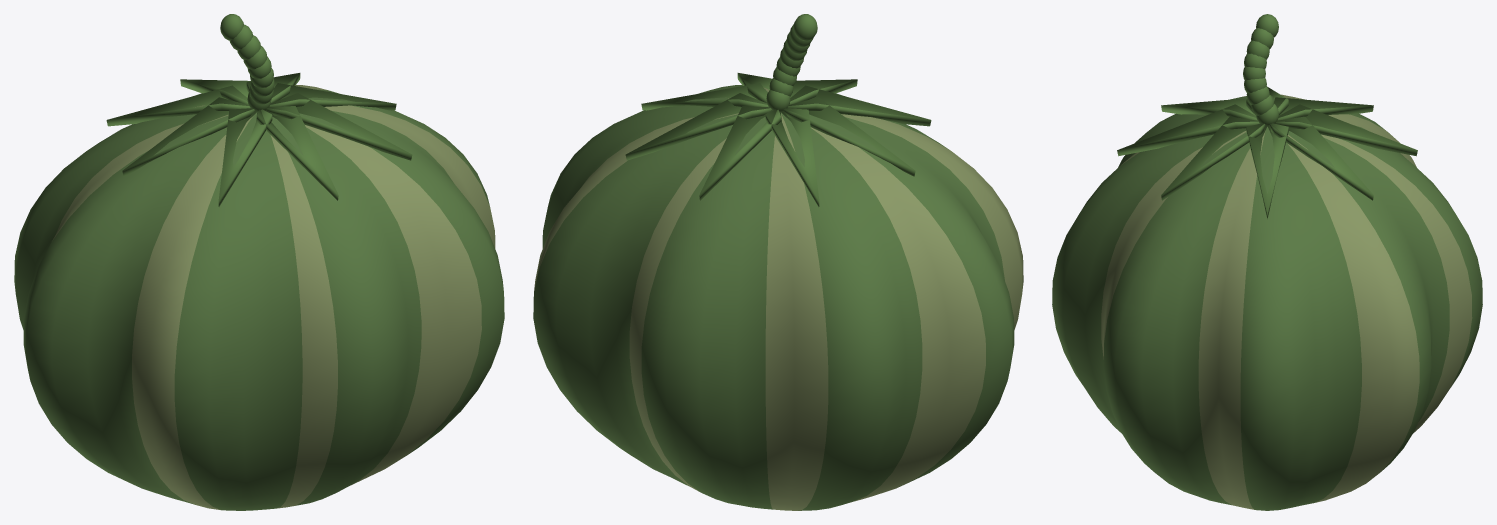
File: rainbow_sage.glb
3 renders of one model, left to right at view 1: azimuth 30°, elevation 25°; view 2: azimuth 150°, elevation 25°; view 3: azimuth 270°, elevation 25°, orthographic. The views are drawn at different scales.
Parts seen in each view (by area): view 1: sage archive sage heirloom skin / Sage pale longitudinal pin, sage archive Archive calyx; view 2: sage archive sage heirloom skin / Sage pale longitudinal pin, sage archive Archive calyx; view 3: sage archive sage heirloom skin / Sage pale longitudinal pin, sage archive Archive calyx.
Part boxes in pixels (x1,y1,x2,y2): sage archive sage heirloom skin / Sage pale longitudinal pin: [14, 85, 504, 510]; sage archive Archive calyx: [106, 14, 412, 206]; sage archive sage heirloom skin / Sage pale longitudinal pin: [533, 85, 1023, 510]; sage archive Archive calyx: [625, 14, 931, 206]; sage archive sage heirloom skin / Sage pale longitudinal pin: [1052, 94, 1482, 510]; sage archive Archive calyx: [1117, 14, 1417, 218].
Size of the model in its own units: 1.37 by 1.36 by 1.16.
